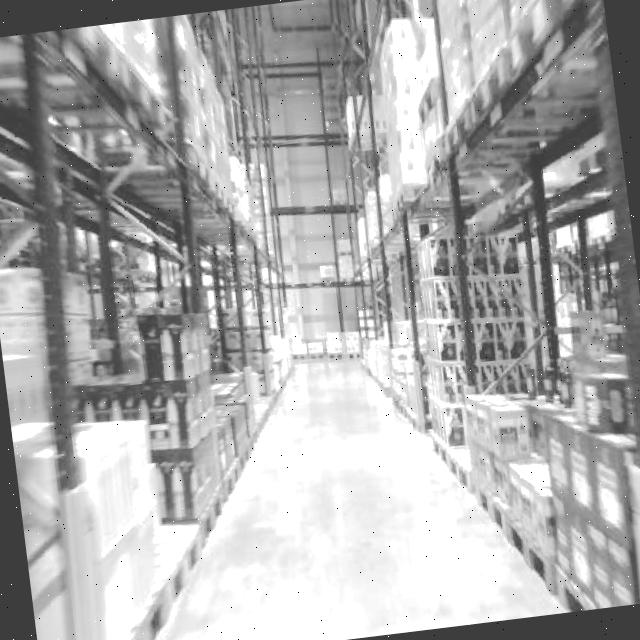ground: (78, 322, 606, 640)
pallet: (0, 7, 325, 640), (319, 0, 640, 631), (360, 299, 640, 631), (12, 404, 179, 640)
